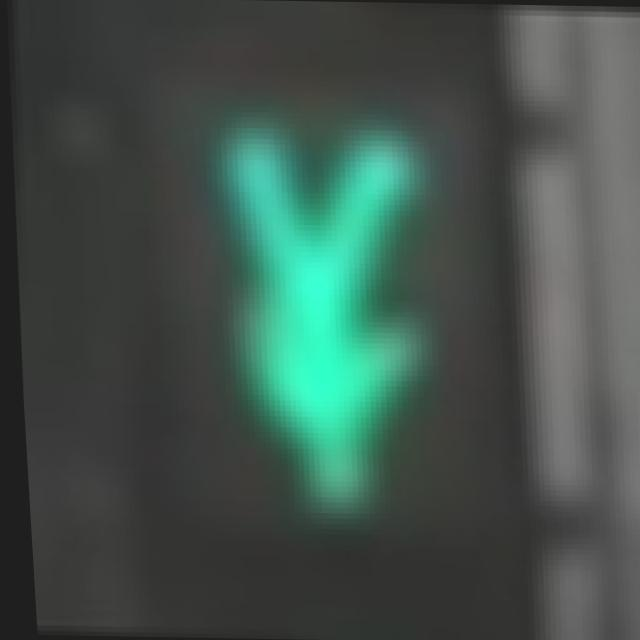green_light: (209, 104, 477, 540)
